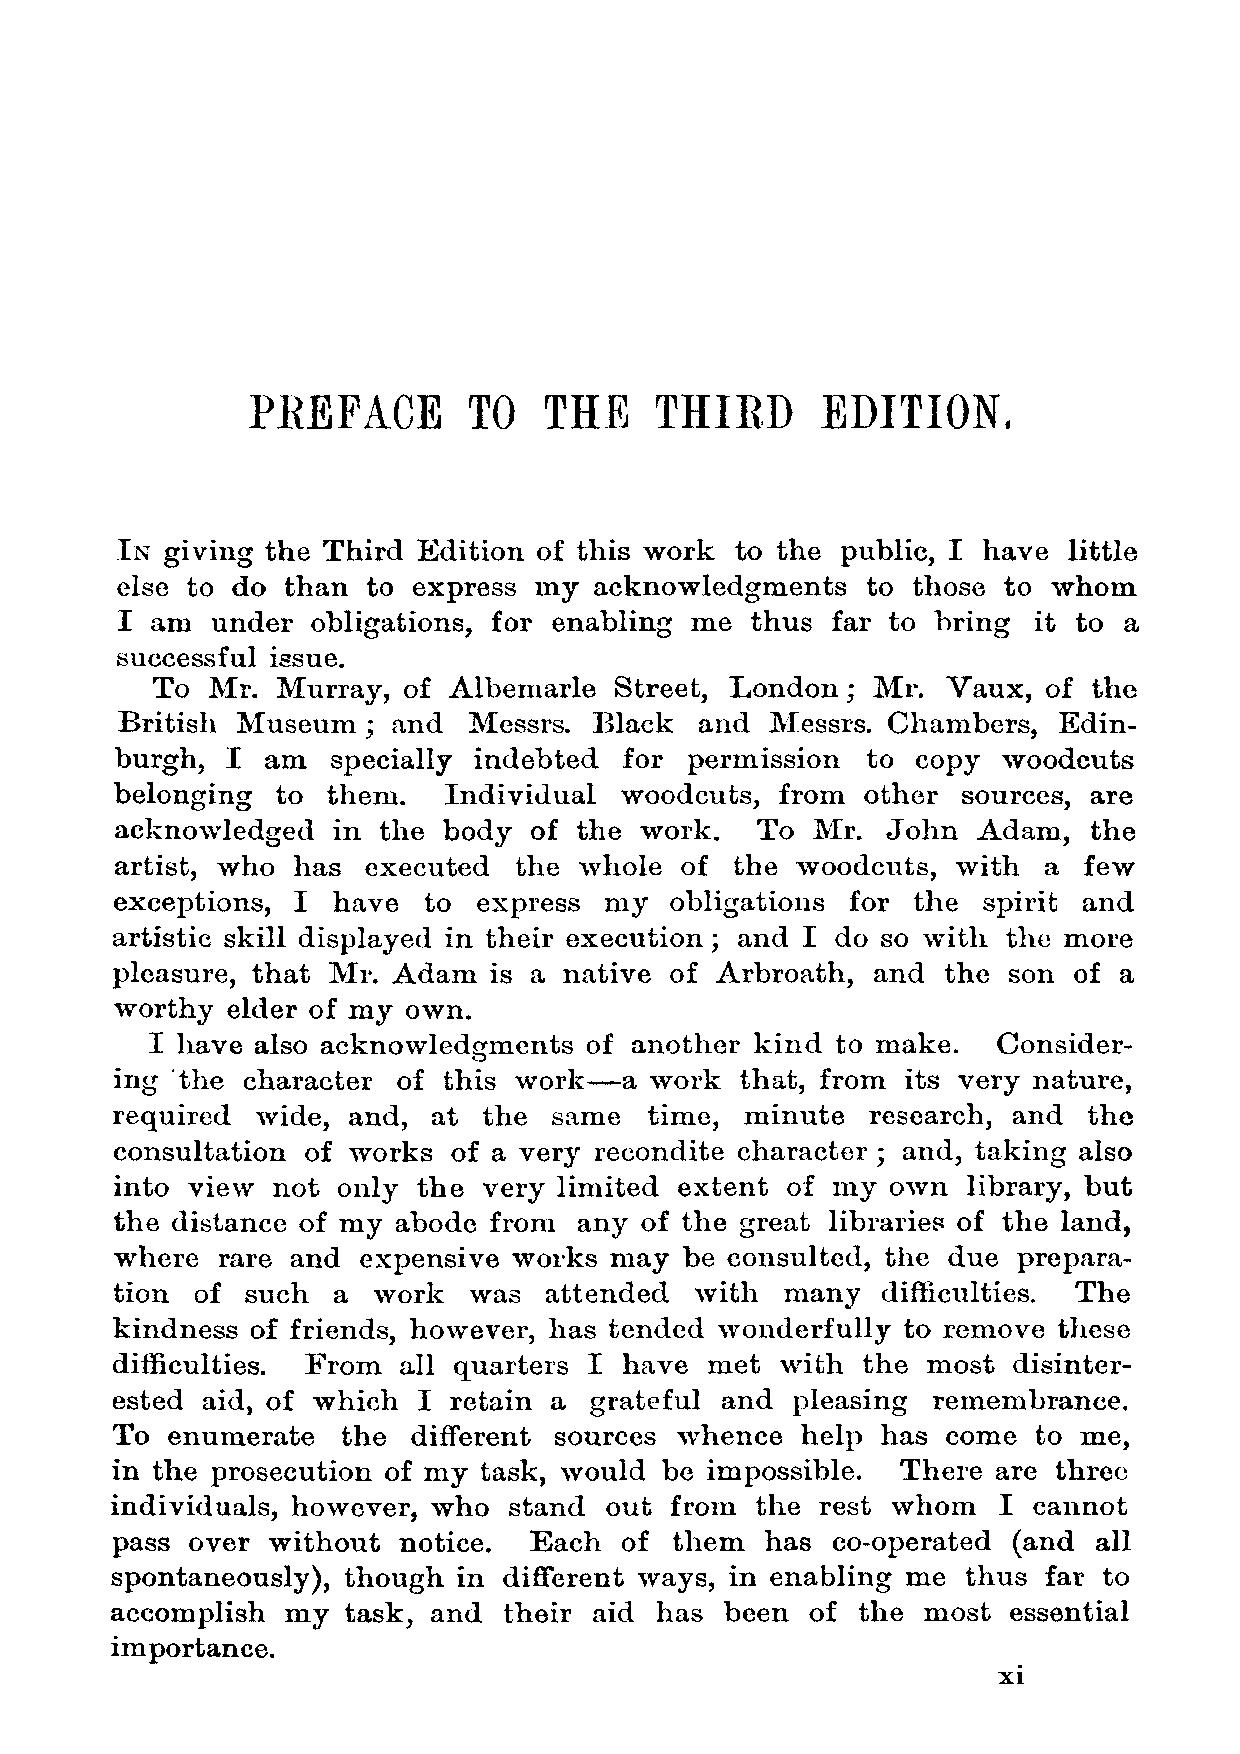chapter: (246, 391, 1013, 429)
content: (109, 534, 1138, 1664)
content_pagenumber: (997, 1665, 1025, 1687)
